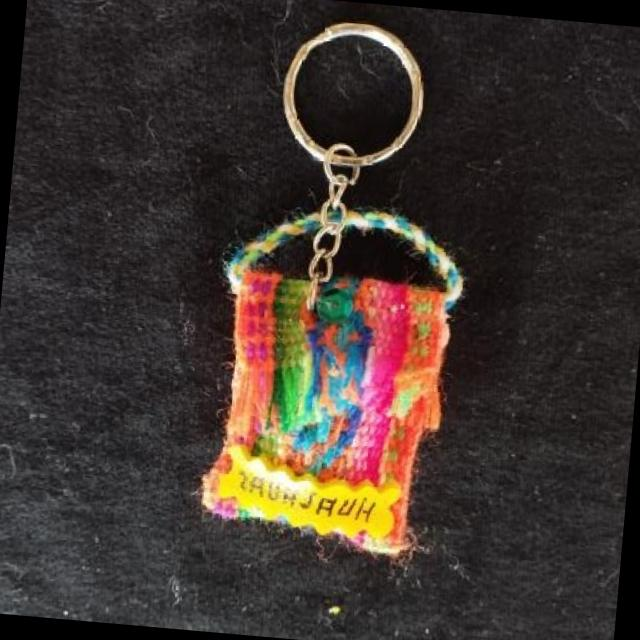Llavero: (194, 195, 468, 562)
